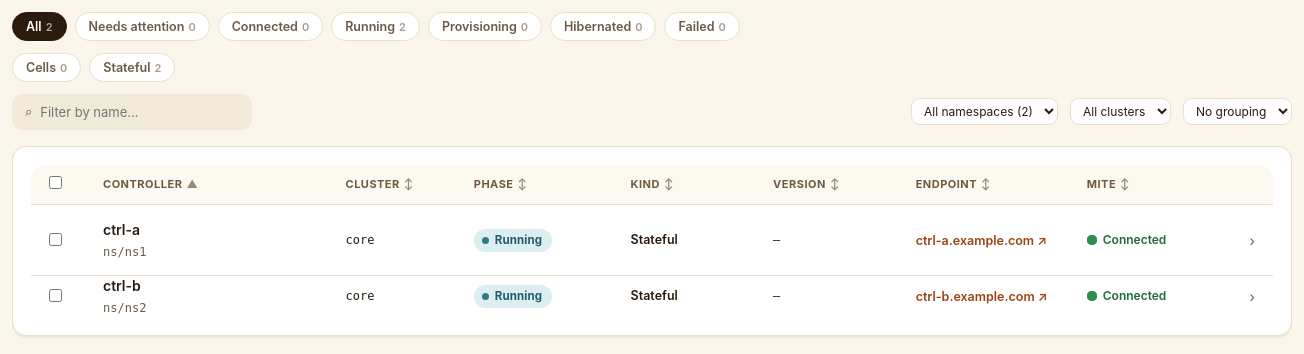
Test: BroodControllerPicker › Namespace filter › filters controllers by namespace when a namespace is selected
Select "ns1 (1)" in the dropdown named "Namespace" at (984, 112), box x1=911 y1=98 x2=1058 y2=125
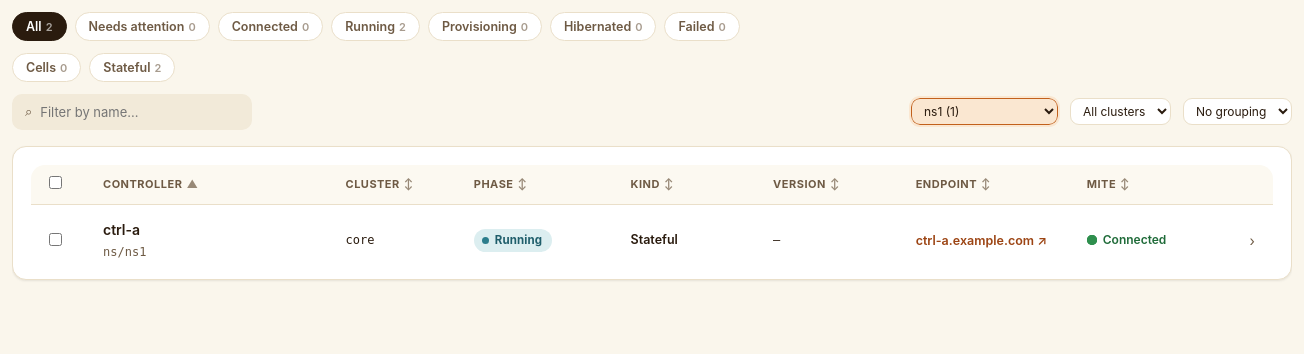
Expected: the text "ctrl-a" is shown, x1=103 y1=219 x2=146 y2=240
Expected: the button "ctrl-b" is gone
